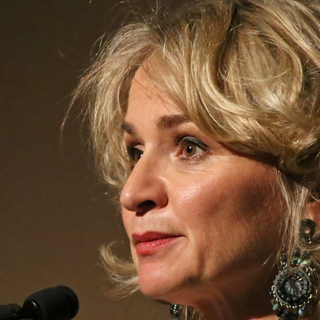eye: (173, 134, 216, 161)
